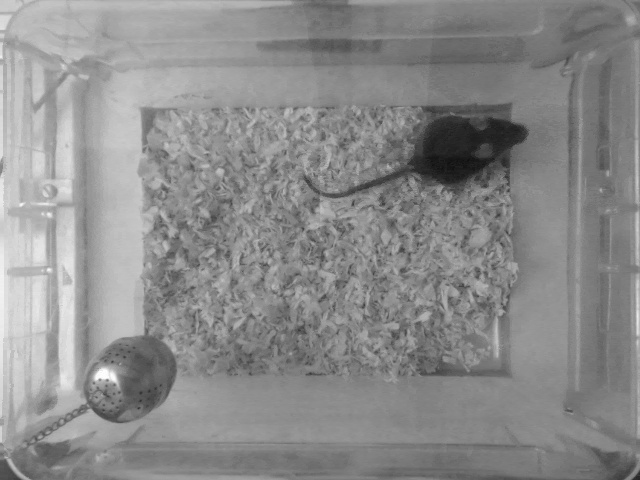mice: (306, 113, 528, 200)
